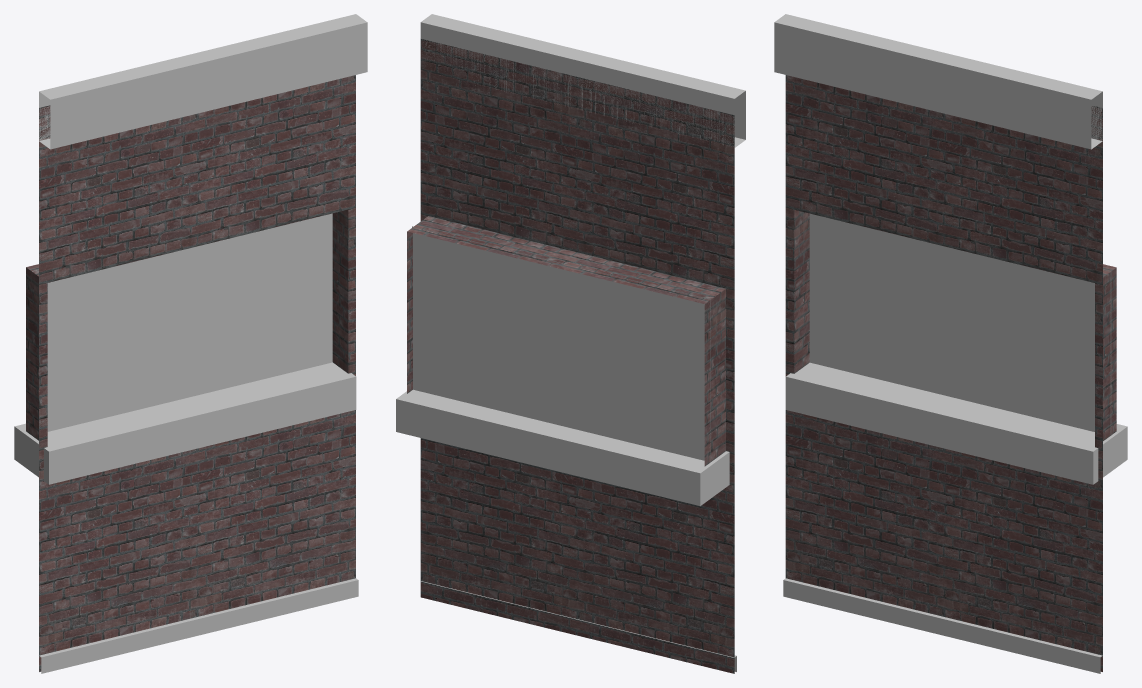
Rendered from Wall_A_Brick_Window_D_2x.FBX.
3 renders of one model, left to right at view 1: azimuth 30°, elevation 25°; view 2: azimuth 150°, elevation 25°; view 3: azimuth 330°, elevation 25°, orthographic.
Visible parts, largest first — view 1: Wall_A_Brick_Window_D_2x; view 2: Wall_A_Brick_Window_D_2x; view 3: Wall_A_Brick_Window_D_2x.
Boxes of the visible parts, x1,y1,x2,y2 form: Wall_A_Brick_Window_D_2x: [14, 14, 367, 673]; Wall_A_Brick_Window_D_2x: [396, 14, 745, 673]; Wall_A_Brick_Window_D_2x: [774, 14, 1127, 673].
Size of the model in its own units: 200 by 350 by 44.71.
